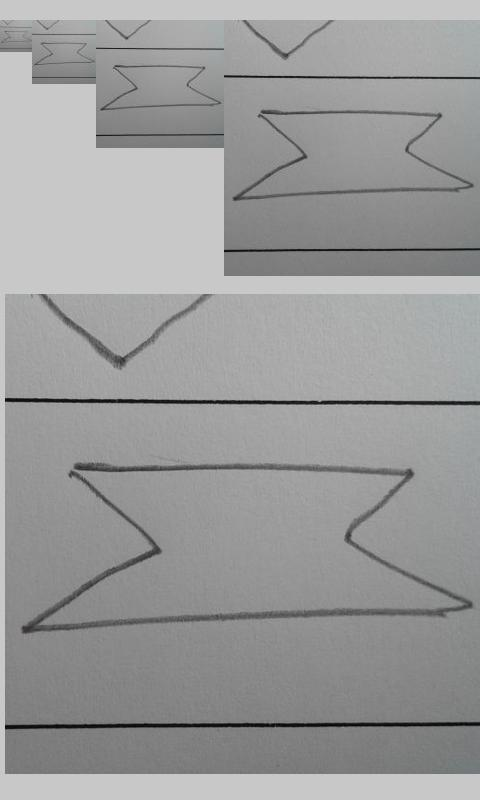edit_text: (18, 458, 474, 635), (233, 109, 476, 204), (100, 64, 222, 111), (34, 42, 95, 66), (2, 30, 31, 43)
